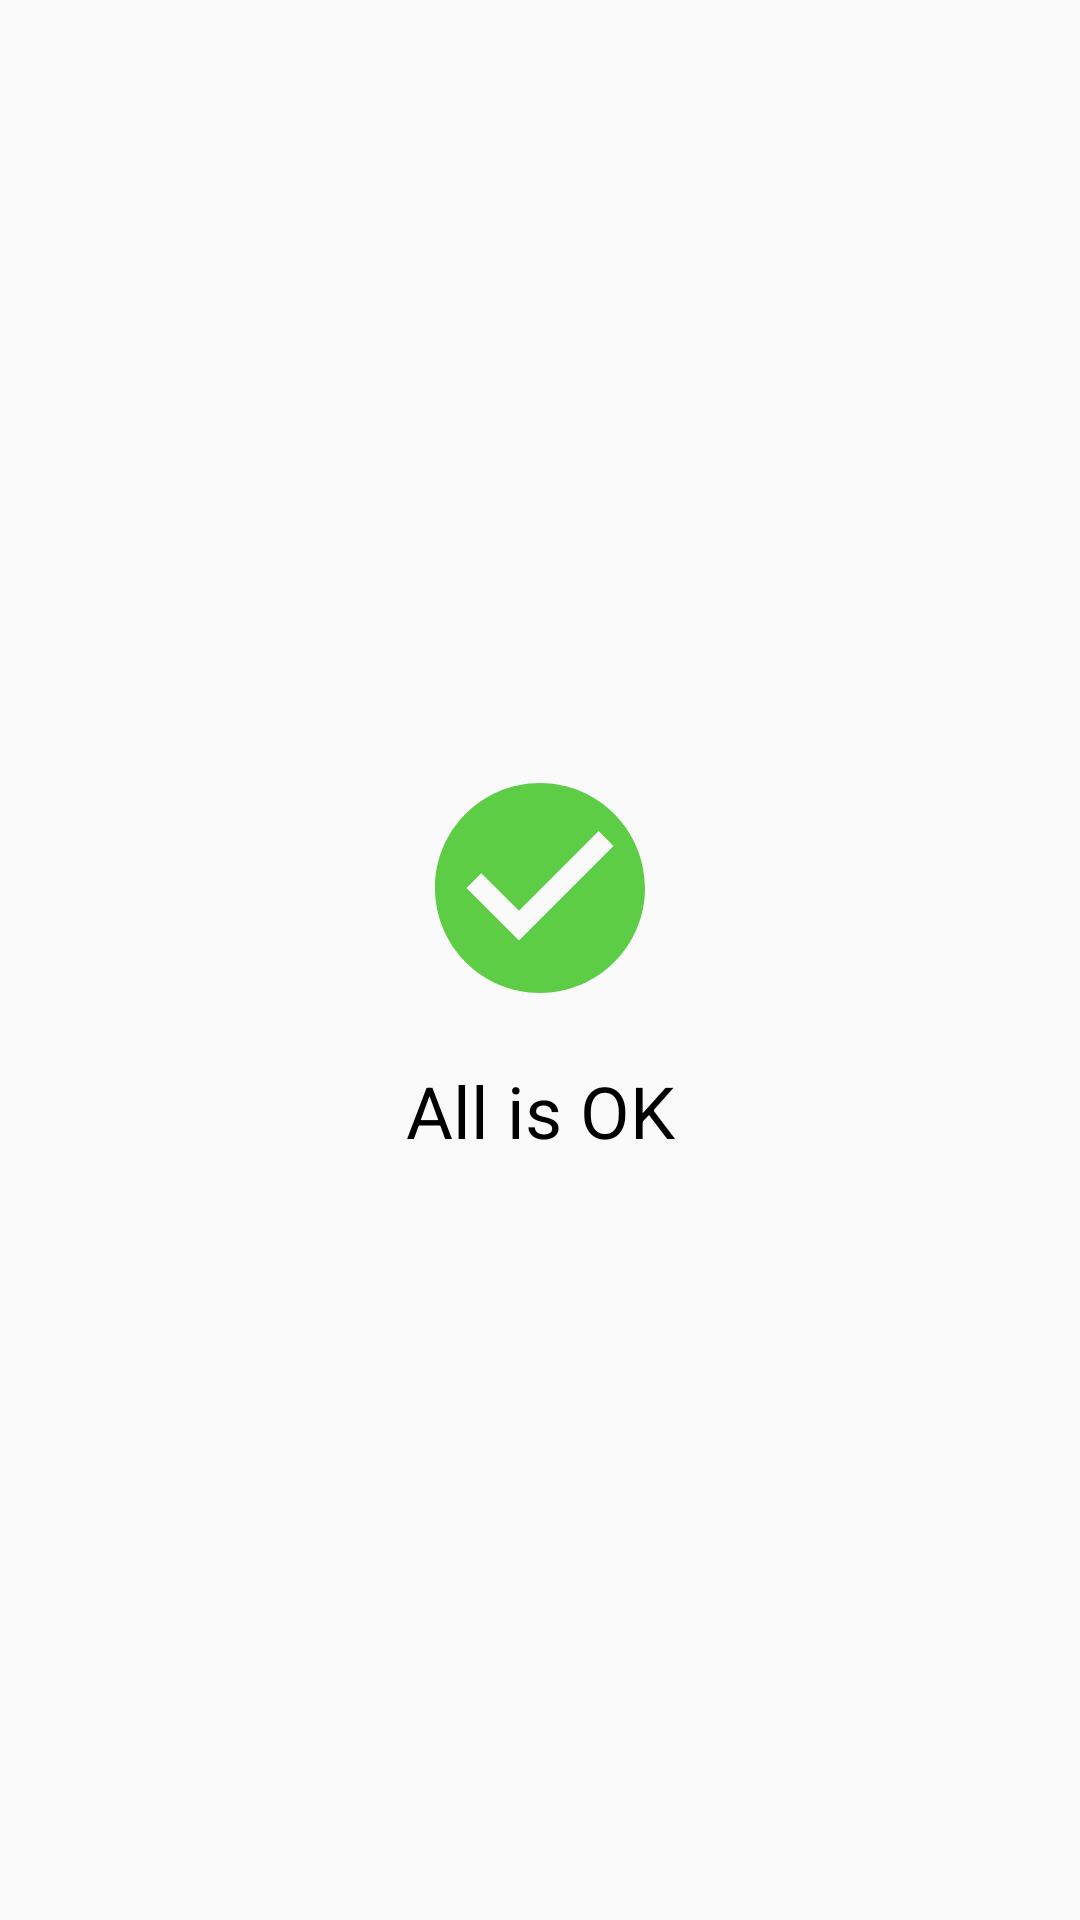

Where to tap for icons on this 1080w x 1920h app screen, as (x,y):
check: (540,888)
